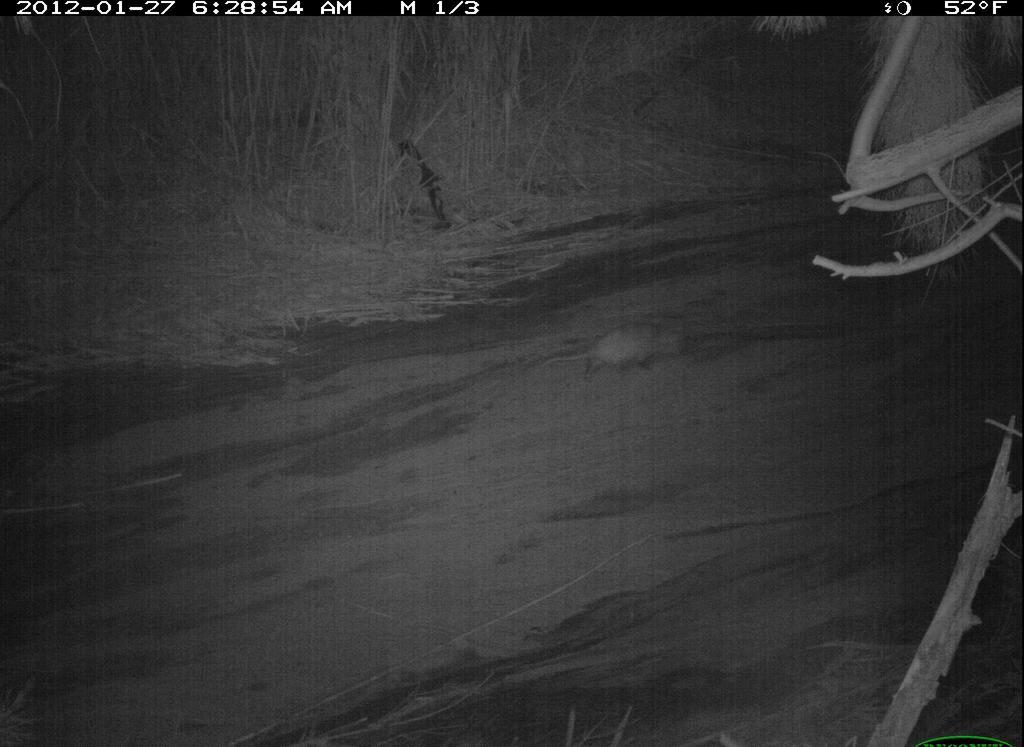opossum: (533, 310, 706, 395)
